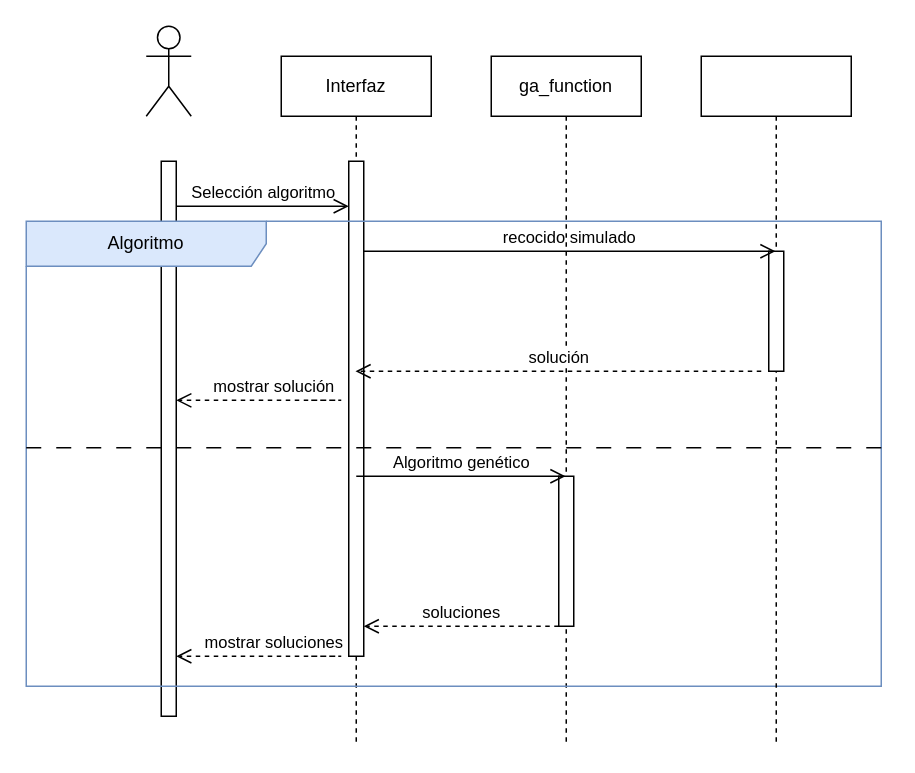
This 915x773 diagram has some shape labels left out. The shapes that lost their labels are listed below. From the top down, each one's centre as x and y in pixels, then its label:
At (x=168, y=70): "Usuario".
At (x=775, y=400): "function".
